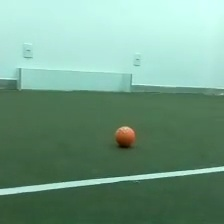ball: (113, 124, 137, 148)
goal: (15, 66, 135, 94)
